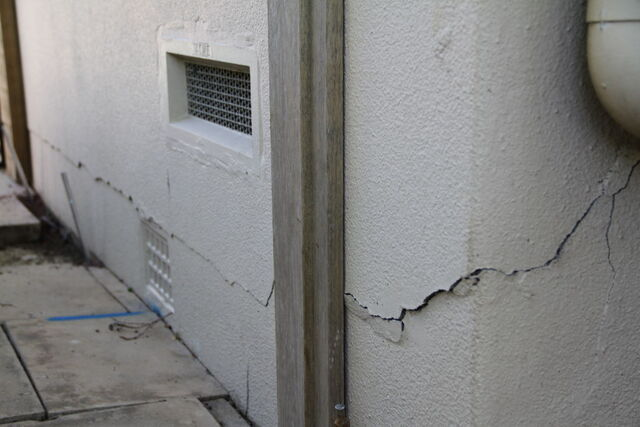crack: (469, 139, 633, 306), (345, 267, 466, 347)
